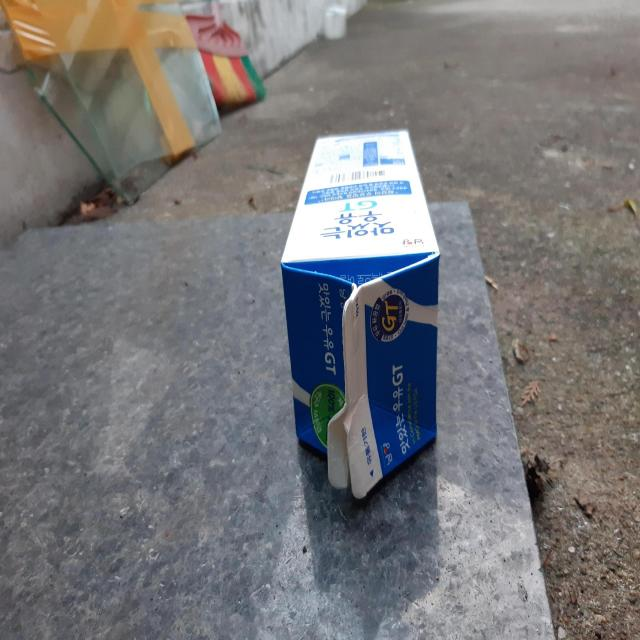paperpack: (282, 129, 439, 498)
